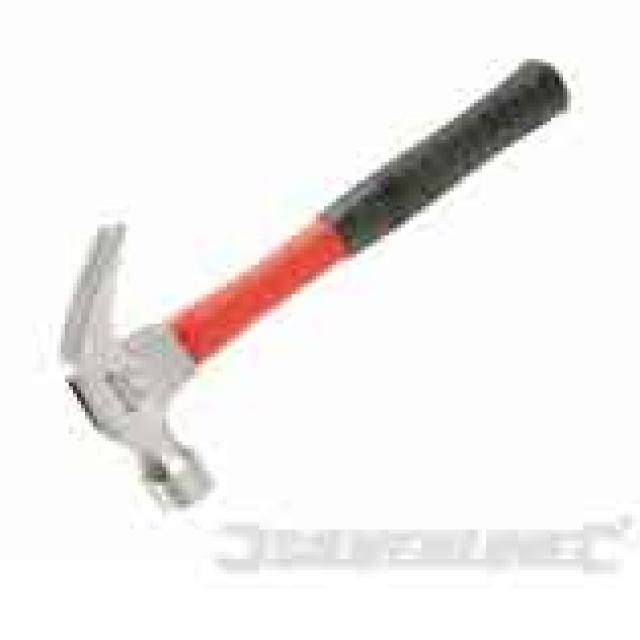hammer: (0, 70, 640, 511)
